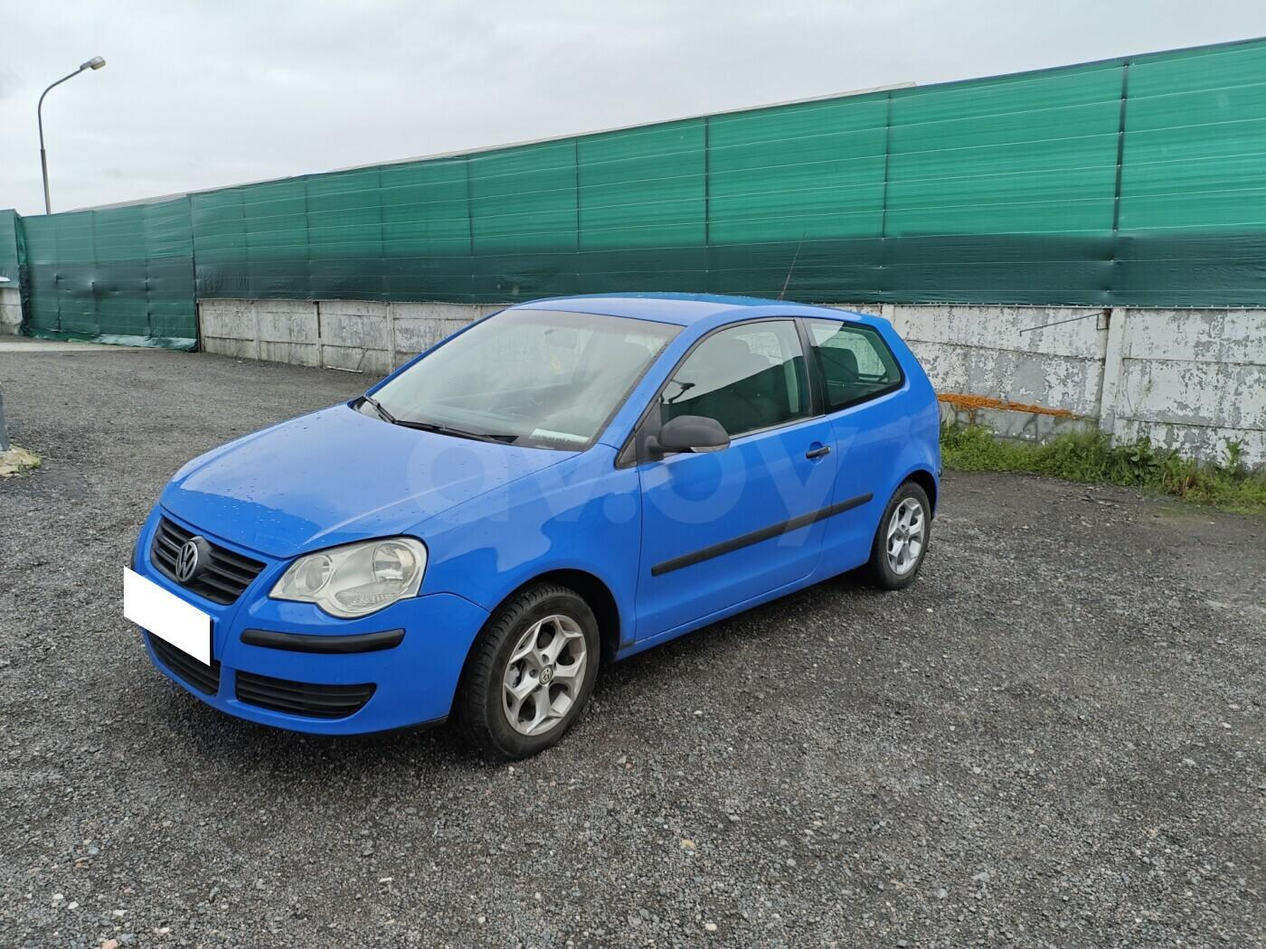Polo_2005-2009: (118, 284, 966, 780)
